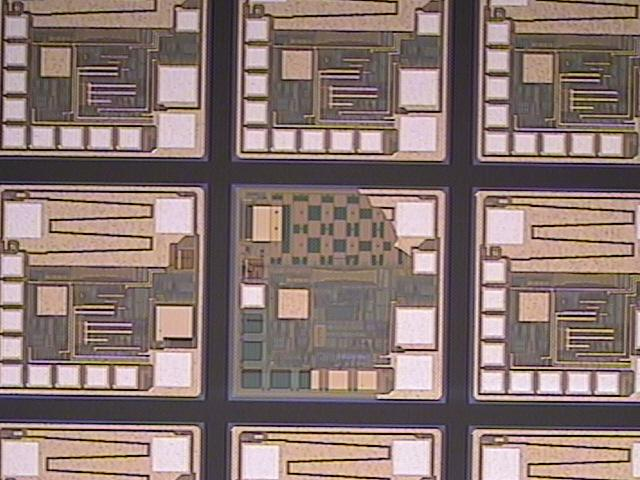COATING BAD: (229, 185, 413, 403)
